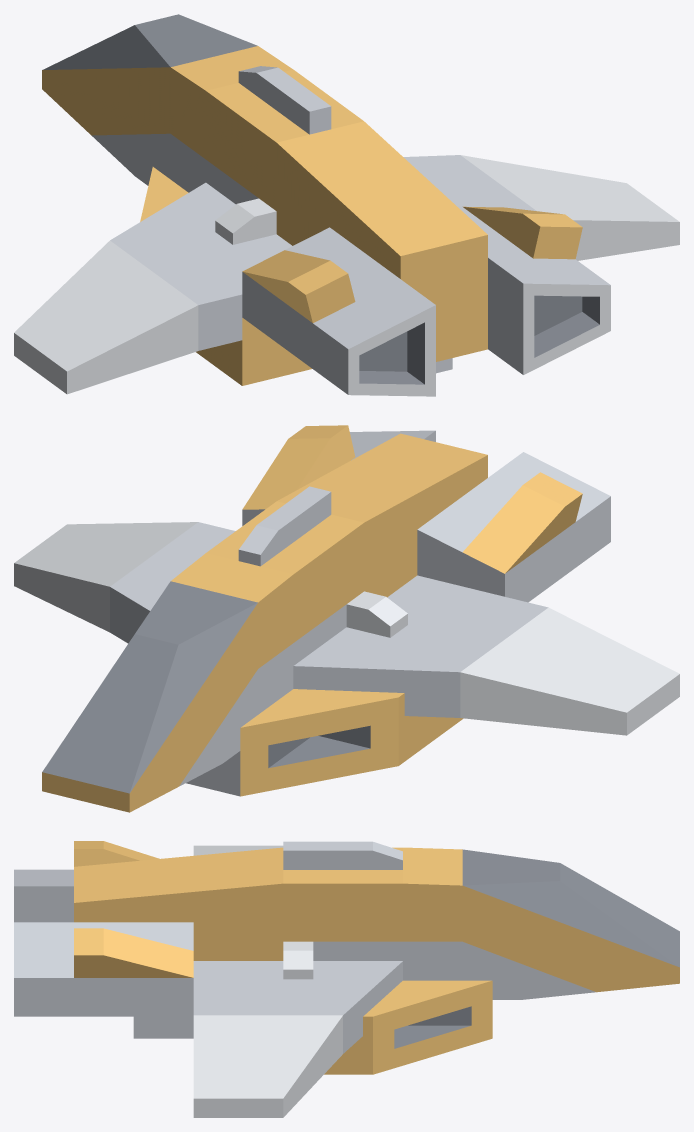
The model's file is airplane.glb.
The picture shows the model from 3 angles, top to bottom: view 1: azimuth 30°, elevation 25°; view 2: azimuth 150°, elevation 25°; view 3: azimuth 270°, elevation 25°; orthographic projection. The views are drawn at different scales.
Parts seen in each view (by area): view 1: craft_speederD; view 2: craft_speederD; view 3: craft_speederD.
Boxes of the visible parts, bbox=[...] form: craft_speederD: bbox=[14, 14, 679, 396]; craft_speederD: bbox=[14, 425, 679, 812]; craft_speederD: bbox=[14, 841, 679, 1117].
Size of the model in its own units: 14 by 4.5 by 15.58.
